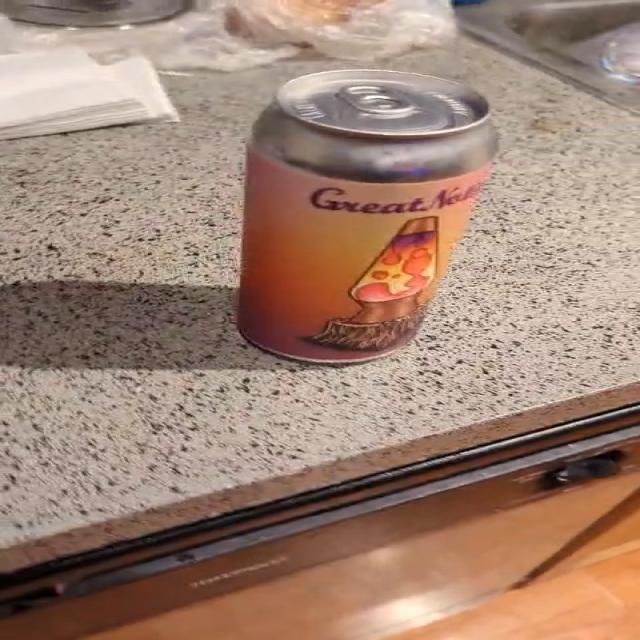can: (238, 70, 496, 364)
